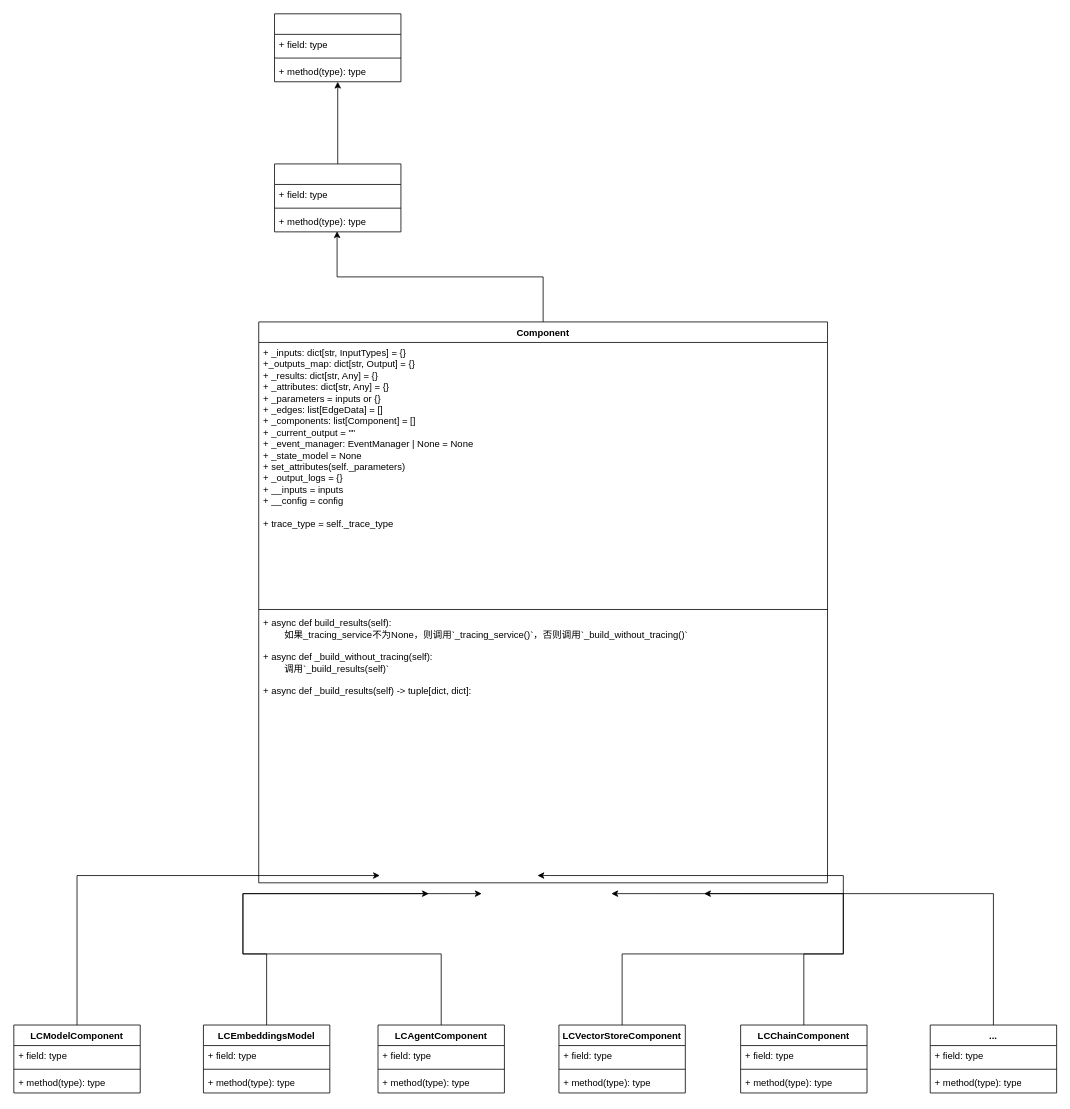
Some shapes in this 1070 by 1109 pixel diagram are drawn without their labels. Each missing label, with the box of its shape:
BaseComponent: (274, 13, 401, 82)
CustomComponent: (274, 163, 401, 232)
